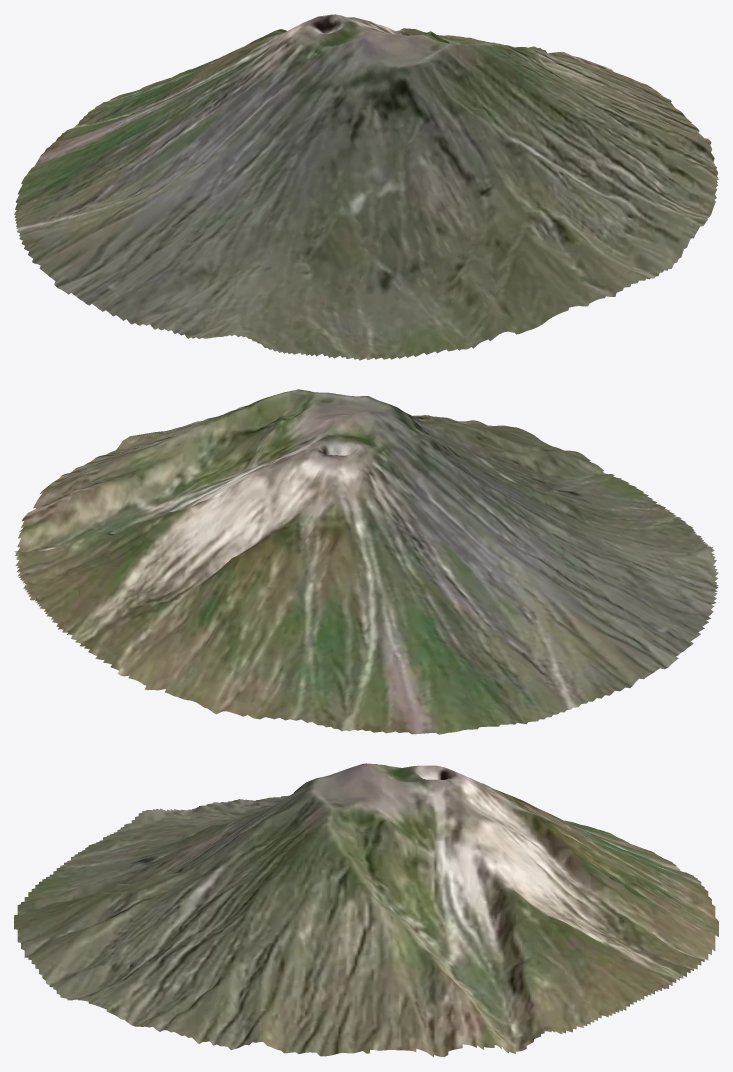
Rendered from lengai.glb.
3 renders of one model, top to bottom at view 1: azimuth 30°, elevation 25°; view 2: azimuth 150°, elevation 25°; view 3: azimuth 270°, elevation 25°, orthographic.
Parts seen in each view (by area): view 1: AW3D30[Memory]_6; view 2: AW3D30[Memory]_6; view 3: AW3D30[Memory]_6.
Boxes of the visible parts, x1,y1,x2,y2 form: AW3D30[Memory]_6: (14, 14, 718, 360); AW3D30[Memory]_6: (14, 389, 718, 734); AW3D30[Memory]_6: (14, 763, 718, 1056).
Bounding box in the file's own units: 4928 × 1387 × 4913.
Materials: 1 (1 with a texture image).
